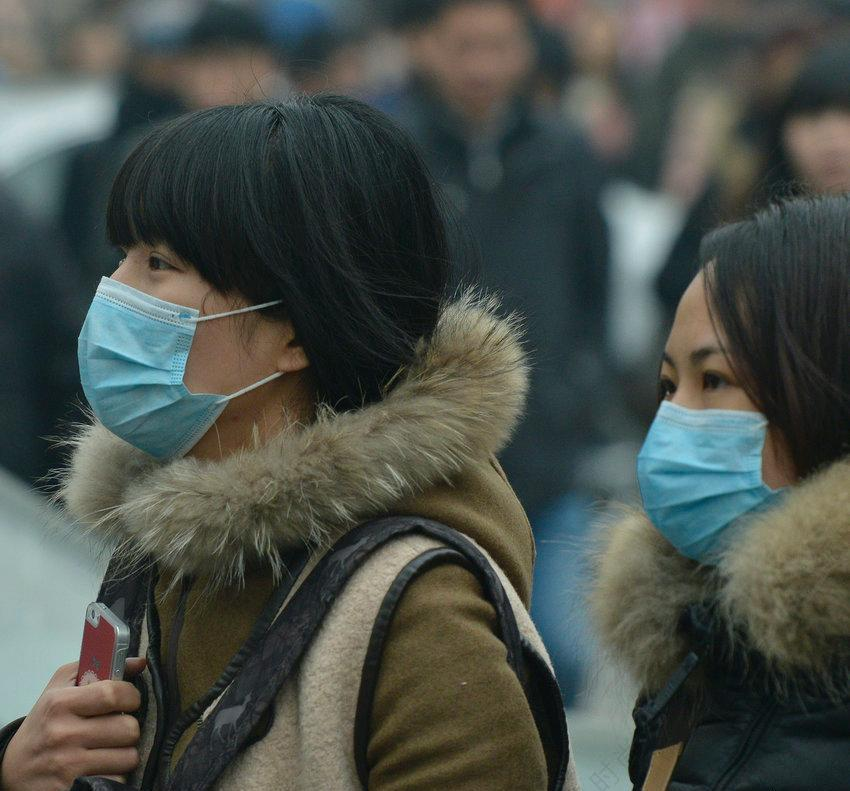NONE: (407, 10, 521, 124), (789, 90, 850, 187)
OK: (78, 219, 273, 442), (644, 312, 810, 554)
